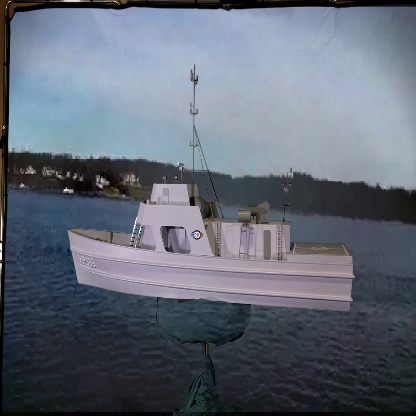YP689: (68, 68, 355, 314)
